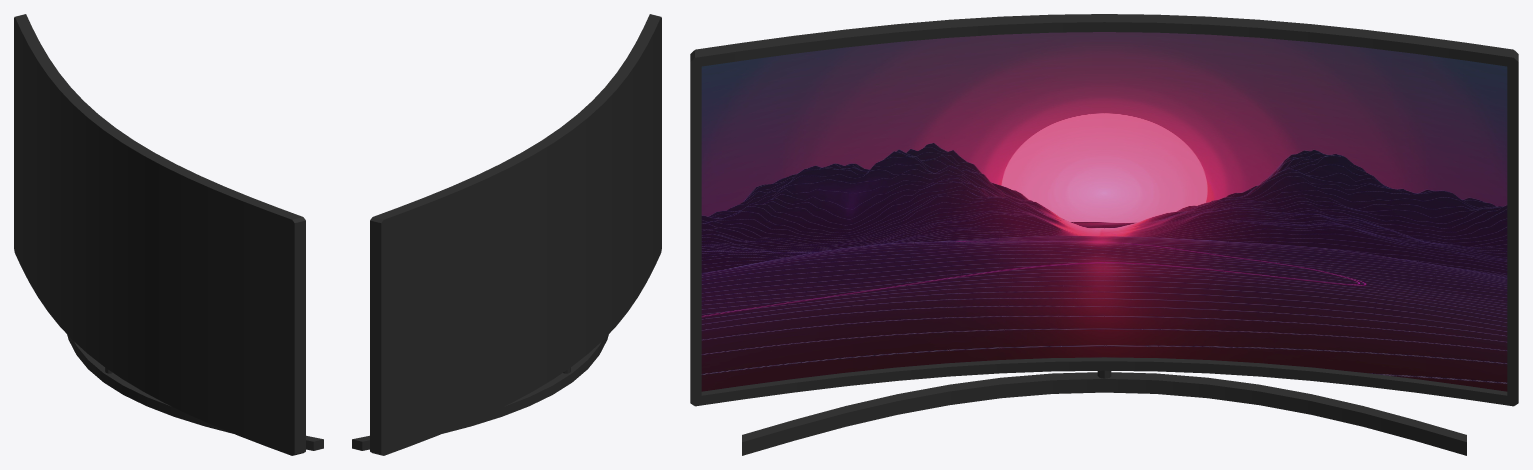
Rendered from smarttv___television__monitor_pc.glb.
The picture shows the model from 3 angles, left to right: view 1: azimuth 30°, elevation 25°; view 2: azimuth 150°, elevation 25°; view 3: azimuth 270°, elevation 25°; orthographic projection. The views are drawn at different scales.
Parts seen in each view (by area): view 1: Object_3; view 2: Object_3; view 3: Object_2, Object_3.
Boxes of the visible parts, x1,y1,x2,y2 form: Object_3: [14, 14, 323, 455]; Object_3: [352, 14, 661, 455]; Object_2: [701, 32, 1507, 391]; Object_3: [690, 14, 1518, 455].
Bounding box in the file's own units: 0.4845 × 1.2 × 2.41.
2 materials, 2 textured.
